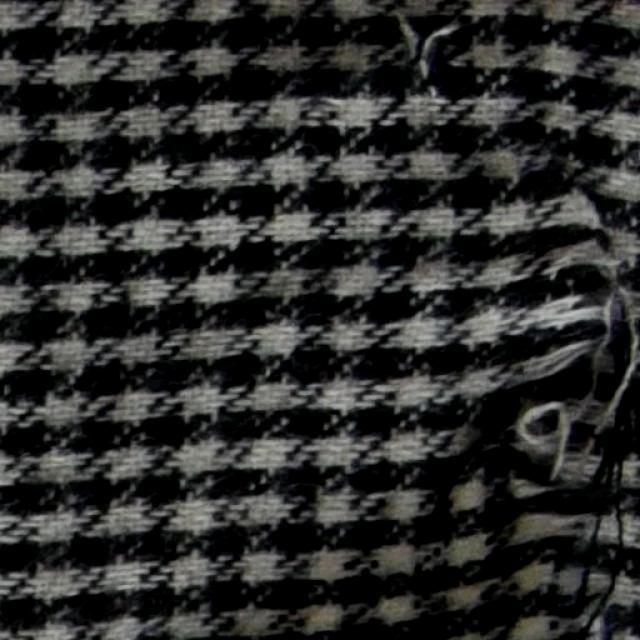Snag: (488, 243, 639, 640), (377, 1, 471, 122)
